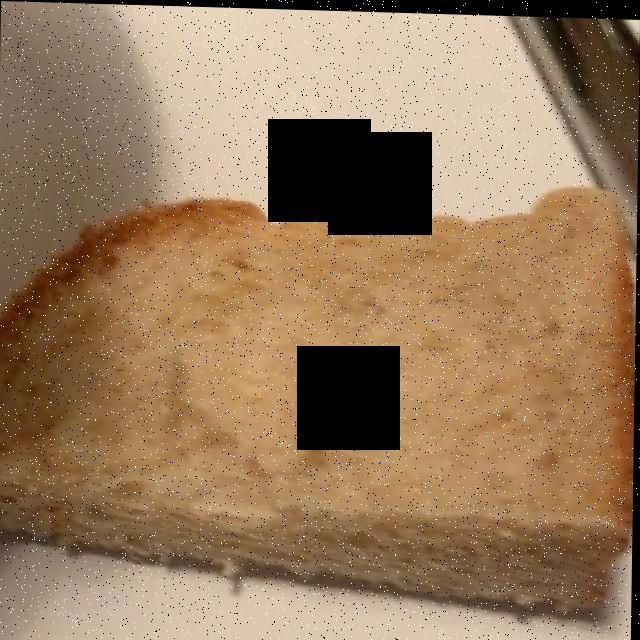bread: (2, 199, 628, 608)
